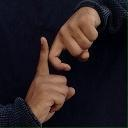hand: (24, 36, 75, 123), (48, 6, 101, 71)
